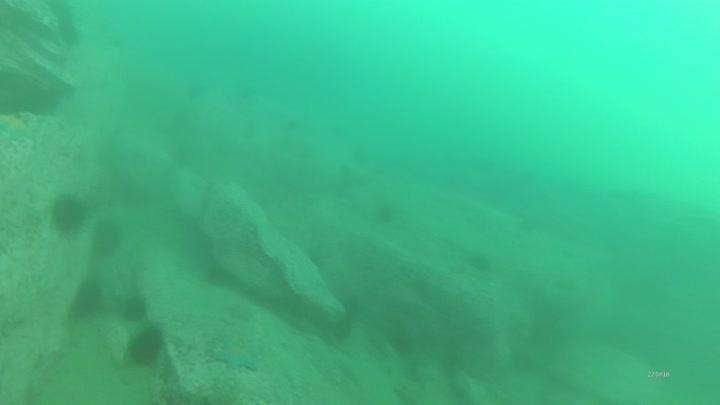echinus: (48, 191, 90, 236), (125, 324, 167, 368), (89, 216, 126, 260), (70, 276, 107, 320), (119, 293, 150, 324), (465, 249, 495, 275), (373, 199, 401, 226)
starfish: (209, 339, 261, 373), (0, 109, 34, 144)
